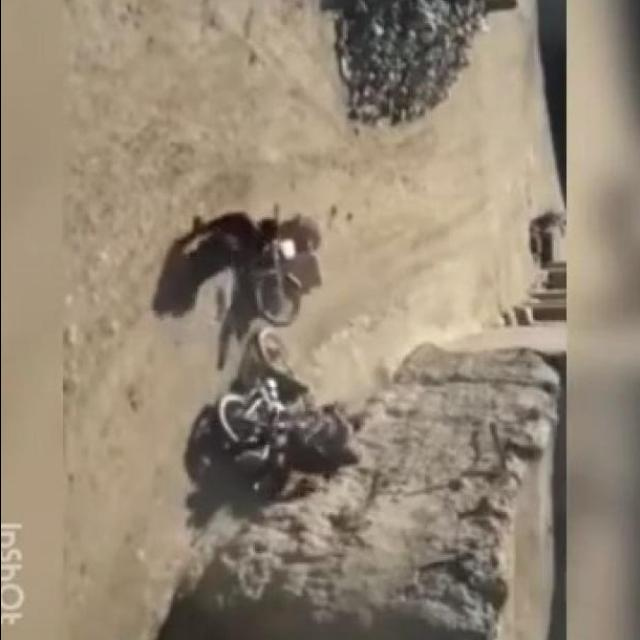accident: (196, 333, 314, 491), (254, 211, 338, 325)
